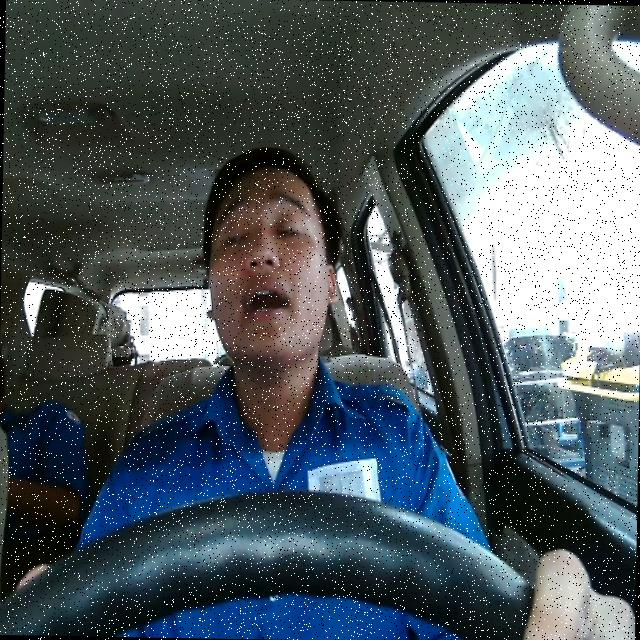yarning: (205, 161, 338, 366)
